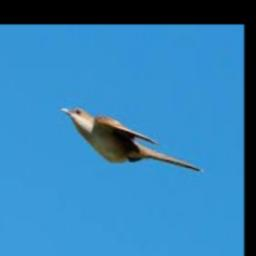Cuckoo: (60, 107, 202, 173)
